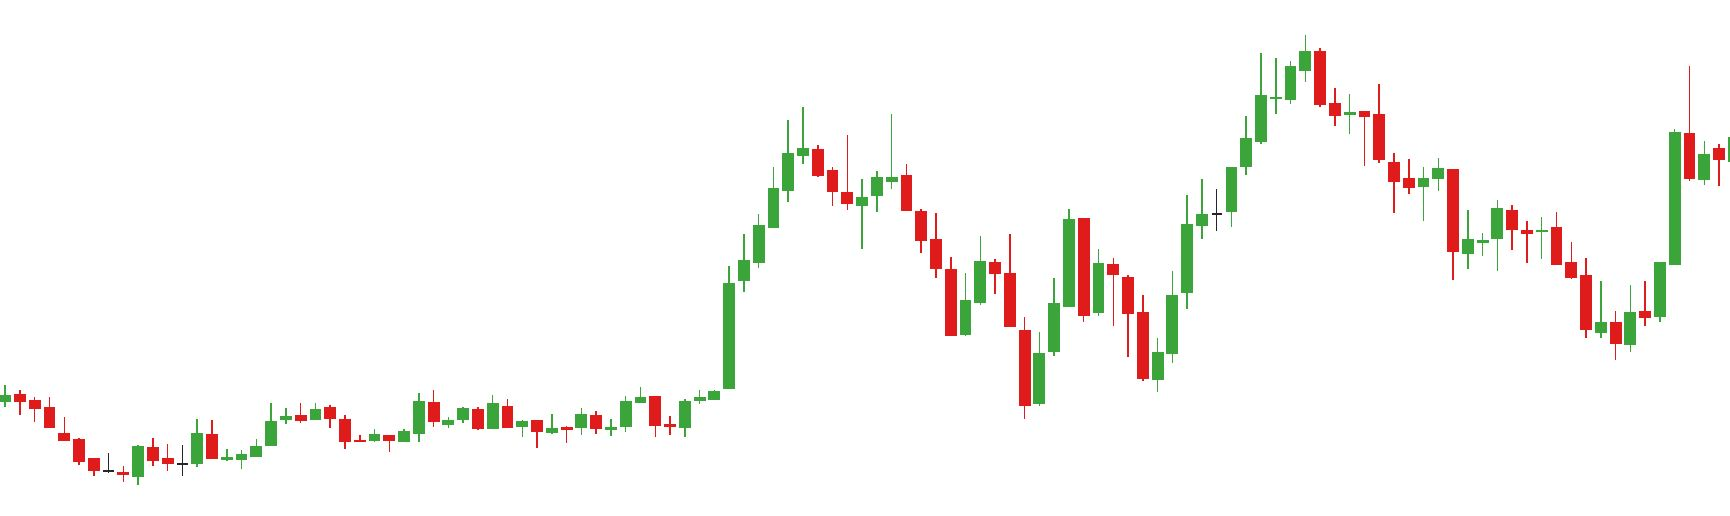buy: (940, 268, 1061, 421)
